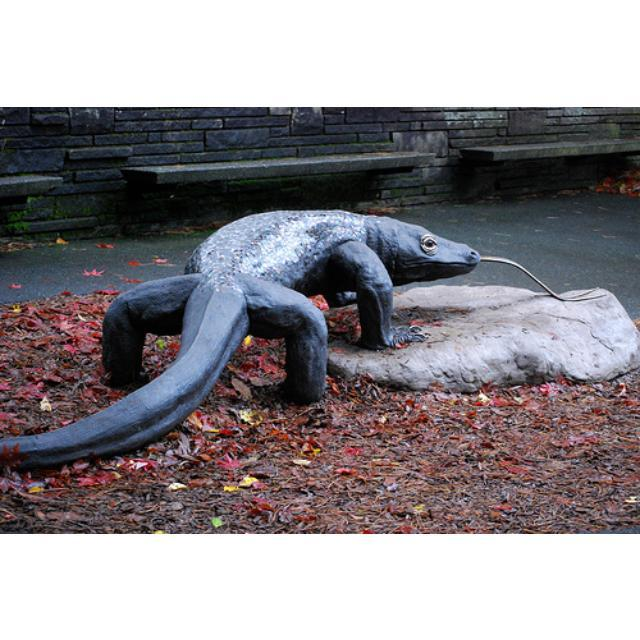KomodoDragon: (4, 206, 568, 458)
